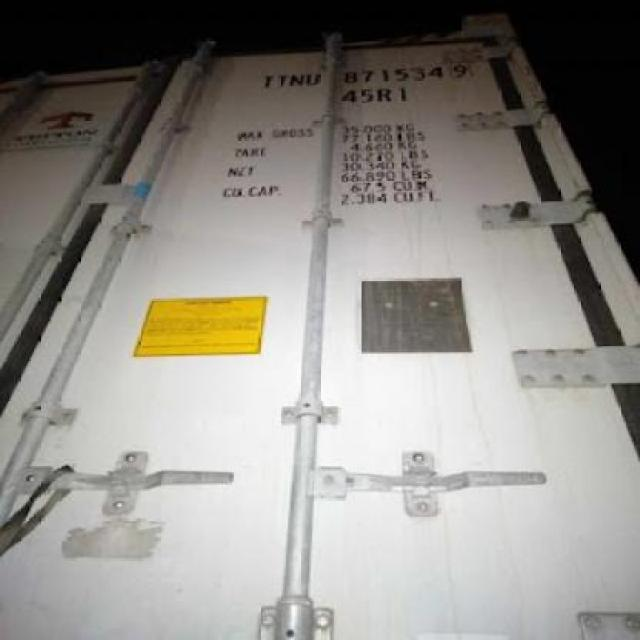ISO: (346, 83, 422, 107)
container_number: (248, 60, 481, 86)
